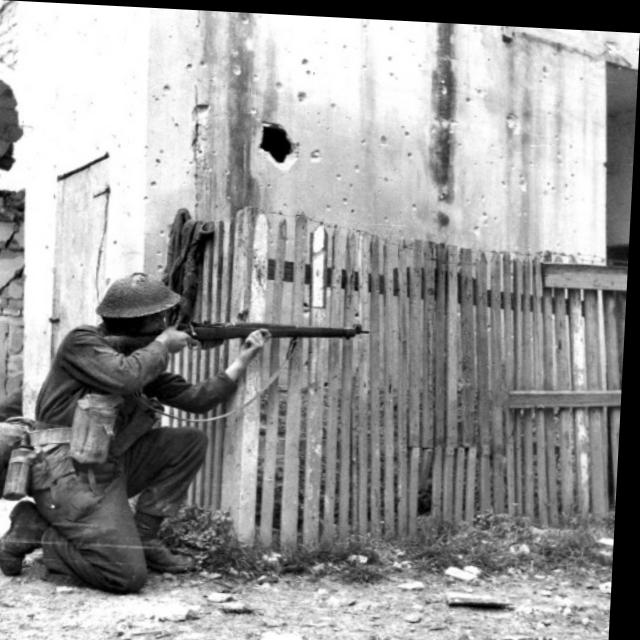other: (0, 254, 268, 620)
